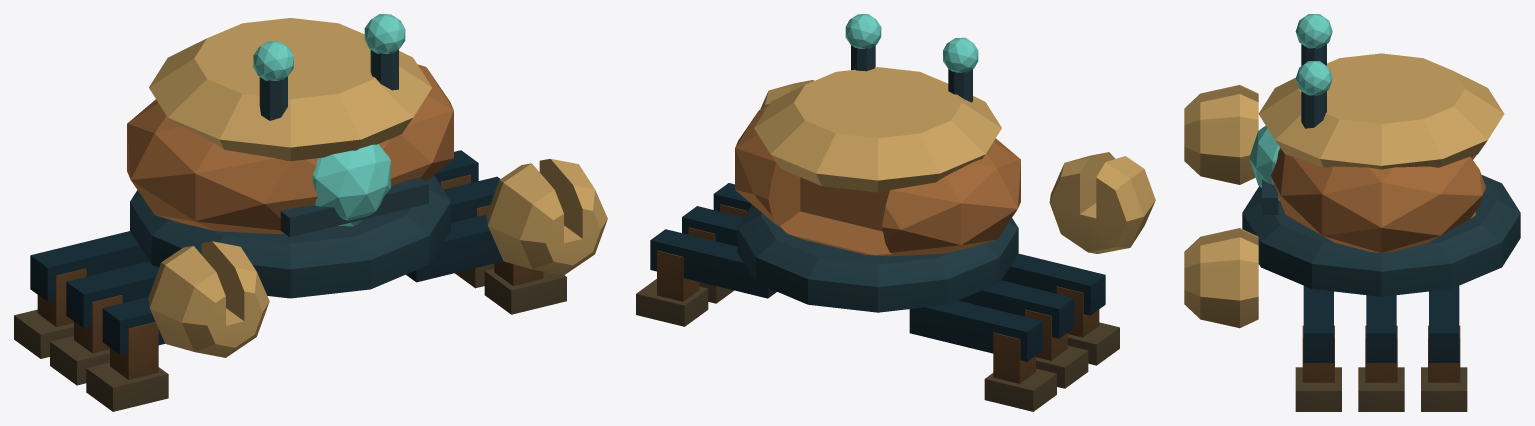
File: models-sentinel.glb
3 views of the same model, side by side, from view 1: azimuth 30°, elevation 25°; view 2: azimuth 150°, elevation 25°; view 3: azimuth 270°, elevation 25° (orthographic). The views are drawn at different scales.
Parts seen in each view (by area): view 1: geometry_0; view 2: geometry_0; view 3: geometry_0.
Part boxes in pixels (left/top/right/bottom): geometry_0: left=14, top=14, right=607, bottom=411; geometry_0: left=636, top=14, right=1155, bottom=411; geometry_0: left=1184, top=14, right=1520, bottom=411.
Bounding box in the file's own units: 1.96 × 1.32 × 1.45.
